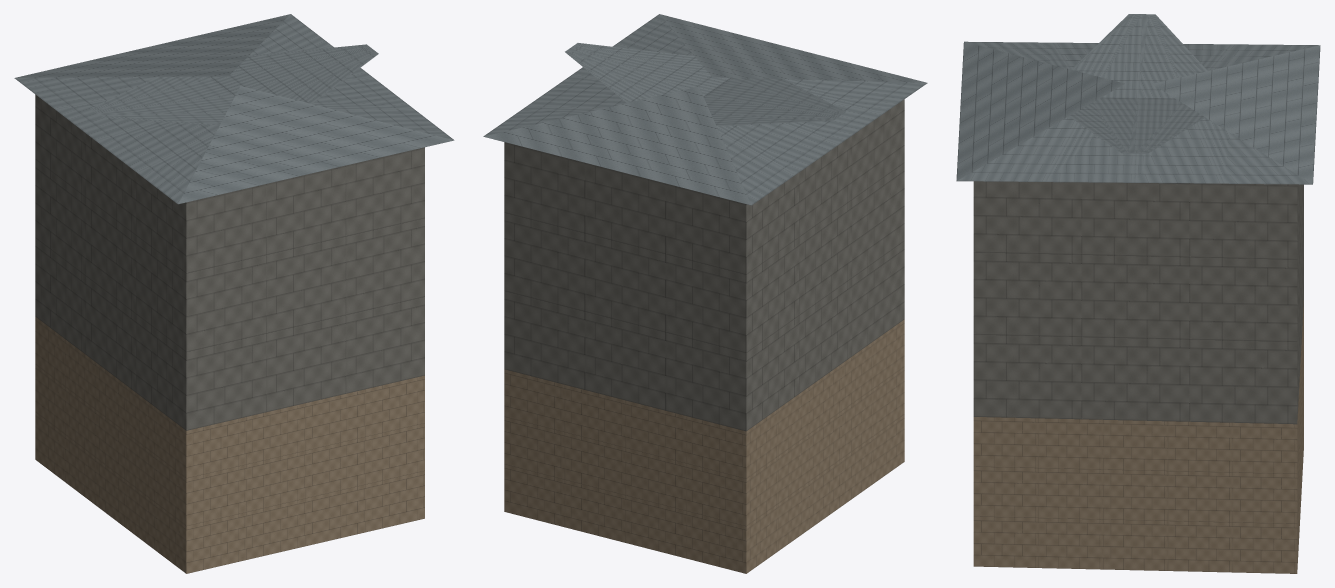
Rendered from bld_c32_-39_458.gltf.
3 views of the same model, side by side, from view 1: azimuth 30°, elevation 25°; view 2: azimuth 150°, elevation 25°; view 3: azimuth 270°, elevation 25° (orthographic). The views are drawn at different scales.
Parts seen in each view (by area): view 1: bld_c32_-39_458; view 2: bld_c32_-39_458; view 3: bld_c32_-39_458.
Part boxes in pixels (x1,y1,x2,y2): bld_c32_-39_458: [14, 14, 454, 573]; bld_c32_-39_458: [483, 14, 927, 573]; bld_c32_-39_458: [956, 14, 1320, 573].
Size of the model in its own units: 10.43 by 14.5 by 11.24.
3 materials, 3 textured.
